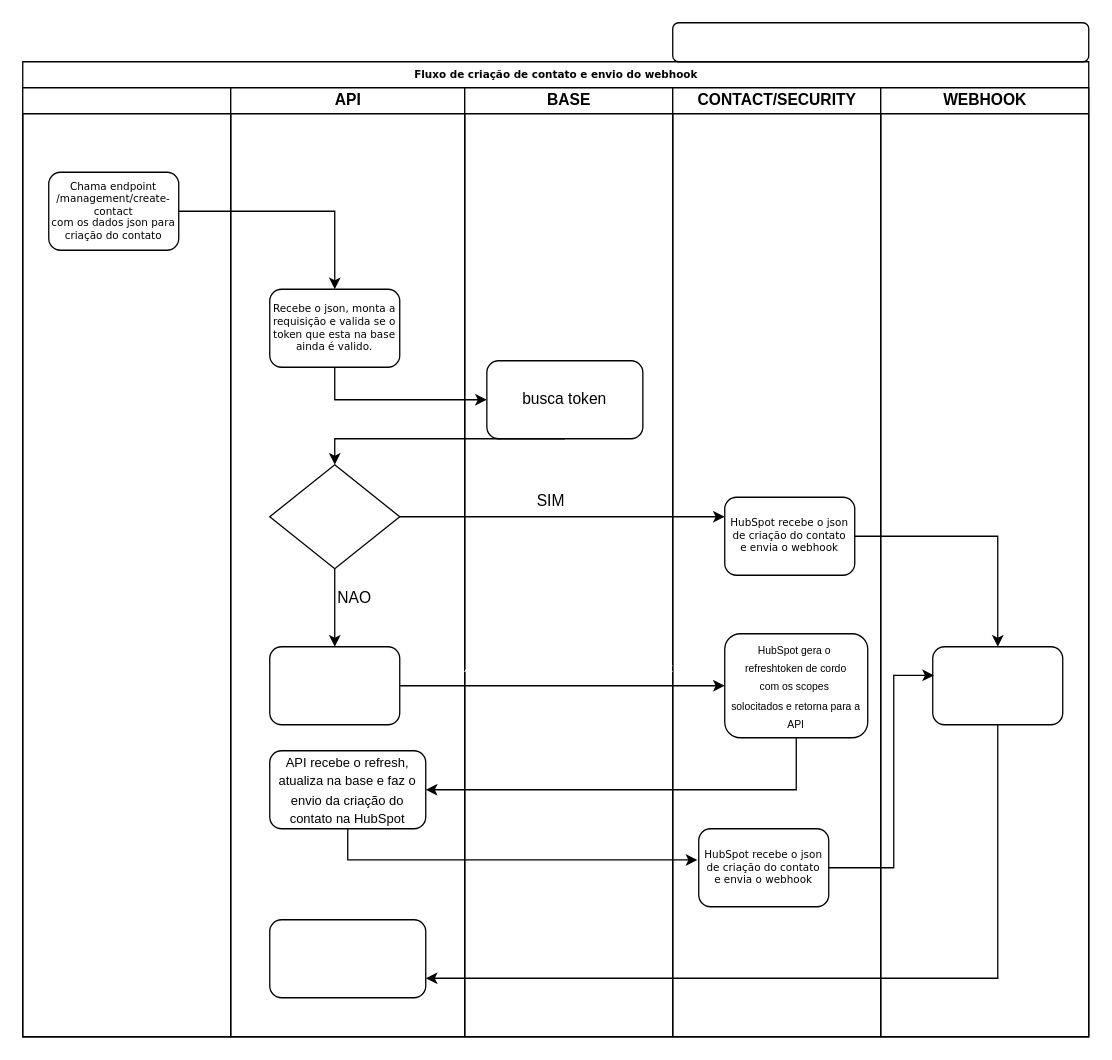
Image size: 1112x1060. Some labels were removed from this diagram. The shapes that lost their labels are listed below. From the top down, each one's box as (x1, y1, x2, y2) in pixels, then its label:
(671, 21, 1089, 62): HUBSPOT
(268, 463, 400, 569): token valido?
(21, 86, 231, 1037): CLIENTE
(268, 645, 400, 725): API faz a renovação do token através da url de token da HubSpot
(931, 645, 1063, 725): Gera o corpo json a ser enviado para o evento de Webhook na API
(268, 918, 426, 998): API recebe o evento, valida a assinatura e completa o fluxo.
